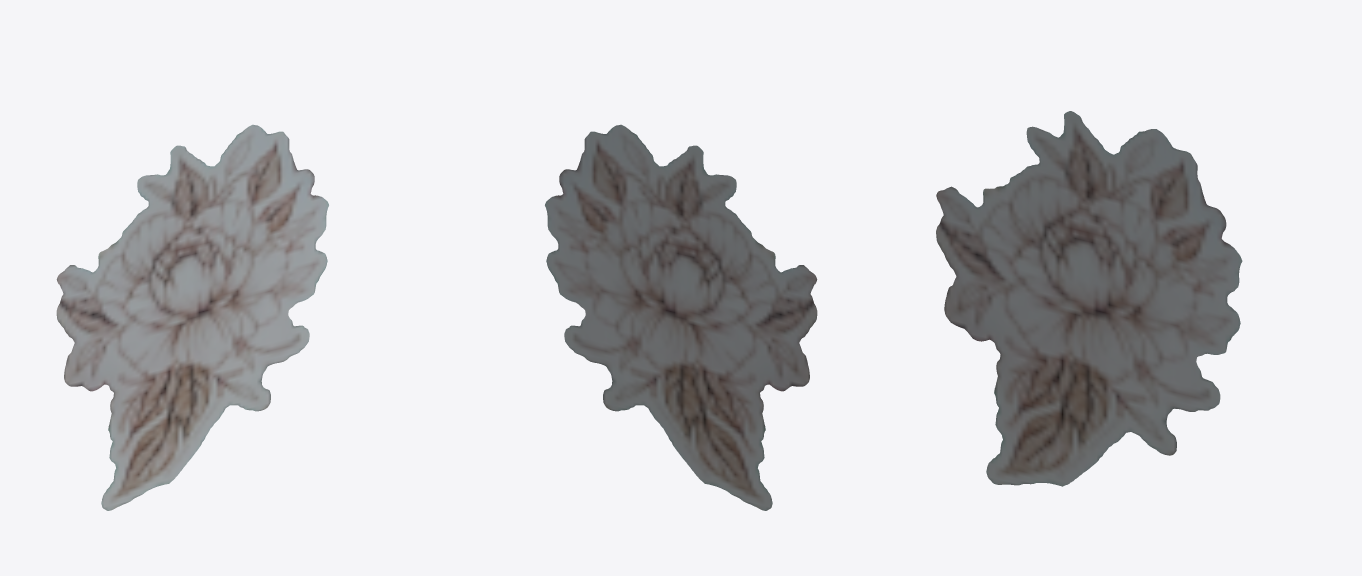
The model's file is Sticker_15.fbx.
The picture shows the model from 3 angles, left to right: view 1: azimuth 30°, elevation 25°; view 2: azimuth 150°, elevation 25°; view 3: azimuth 330°, elevation 25°; orthographic projection. The views are drawn at different scales.
Visible parts, largest first — view 1: Sticker_15; view 2: Sticker_15; view 3: Sticker_15.
Part boxes in pixels (x1,y1,x2,y2): Sticker_15: [56, 124, 328, 510]; Sticker_15: [545, 124, 817, 510]; Sticker_15: [936, 111, 1242, 486].
Size of the model in its own units: 0.21 by 0.22 by 1.4e-08.
